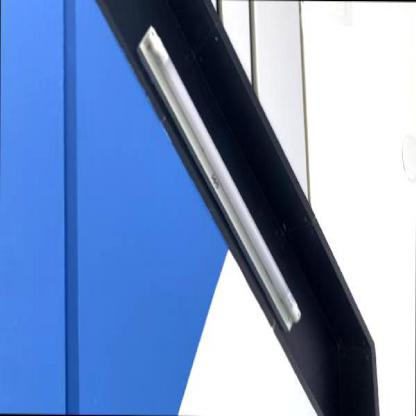light_off: (132, 16, 307, 348)
